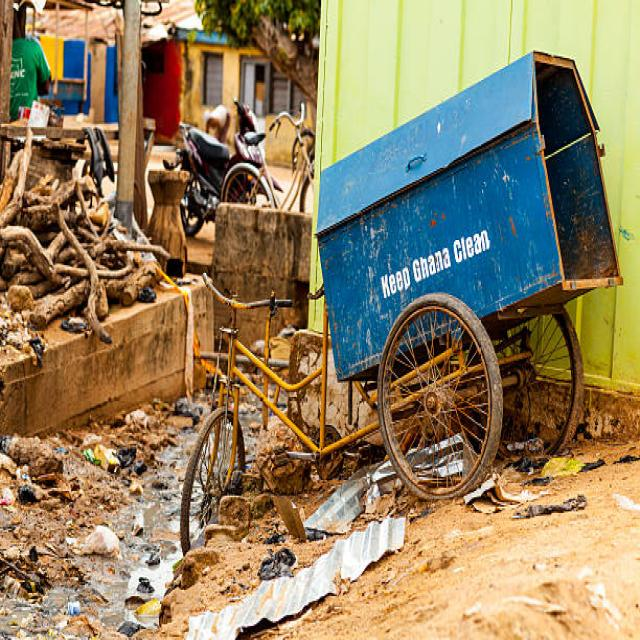metal: (330, 101, 606, 323)
trash: (21, 193, 324, 538)
